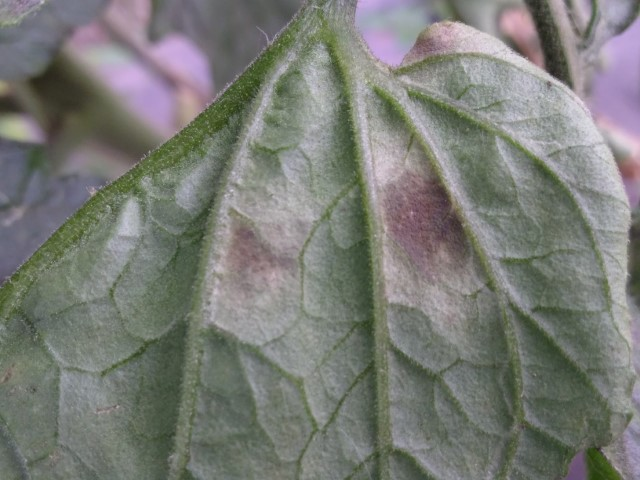negra: (373, 176, 490, 293), (225, 217, 303, 282)
